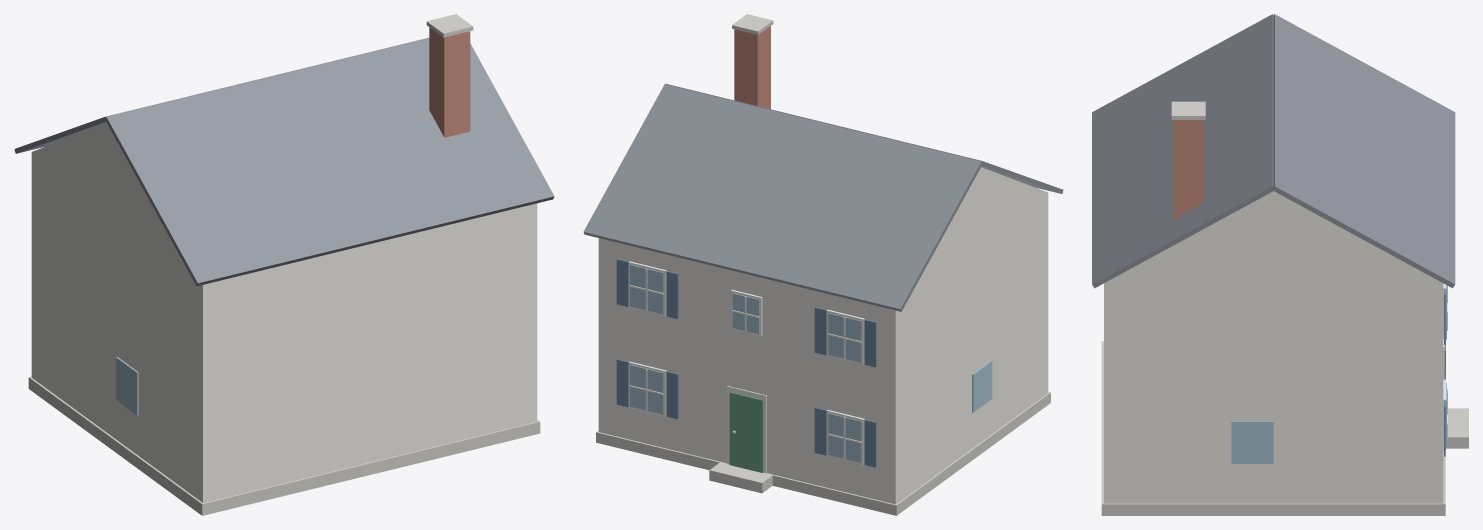
Rendered from house_colonial.glb.
3 renders of one model, left to right at view 1: azimuth 30°, elevation 25°; view 2: azimuth 150°, elevation 25°; view 3: azimuth 270°, elevation 25°, orthographic. The views are drawn at different scales.
Parts seen in each view (by area): view 1: body; view 2: body; view 3: body.
Boxes of the visible parts, left/top/right/bottom form: body: left=14, top=14, right=554, bottom=515; body: left=583, top=14, right=1063, bottom=515; body: left=1092, top=14, right=1468, bottom=515.
Size of the model in its own units: 9.6 by 10 by 8.88.
